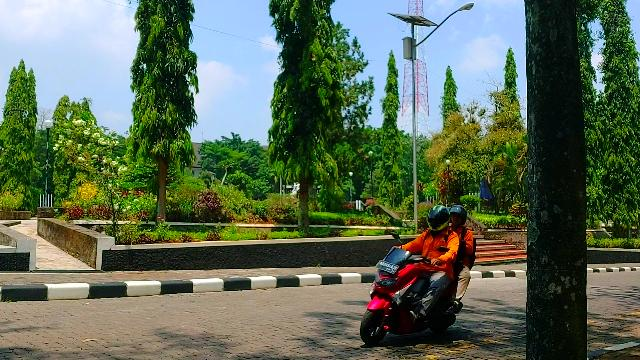helm: (429, 207, 451, 231), (451, 206, 468, 227)
motor: (362, 249, 453, 346)
